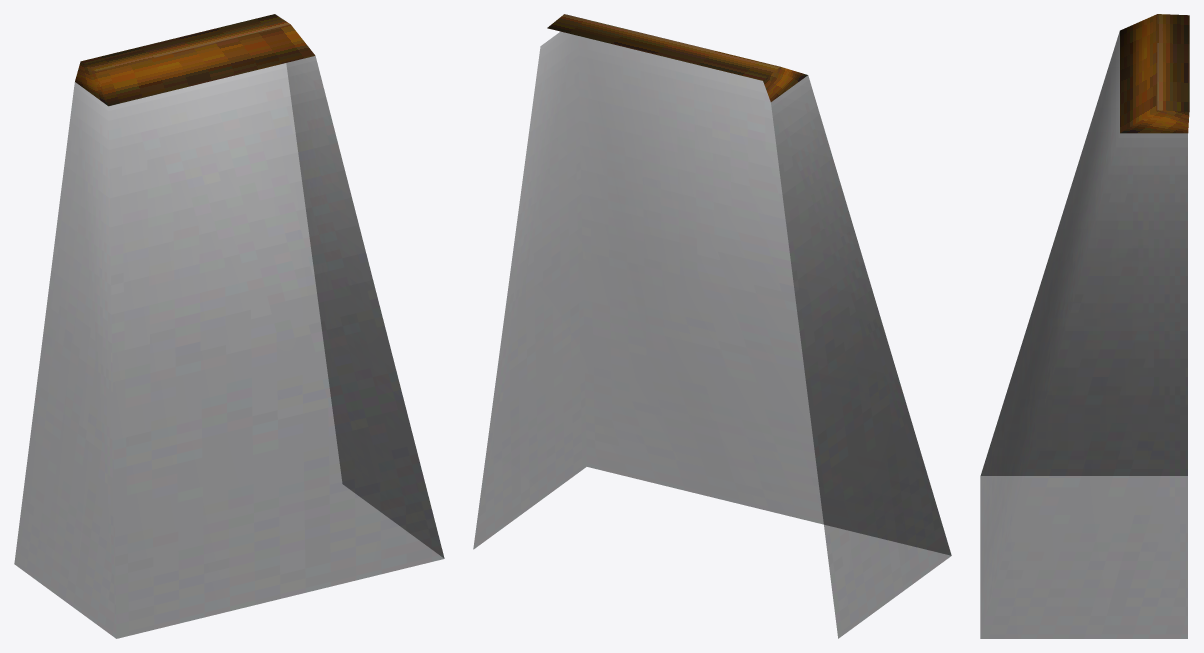
3 views of the same model, side by side, from view 1: azimuth 30°, elevation 25°; view 2: azimuth 150°, elevation 25°; view 3: azimuth 270°, elevation 25° (orthographic). The views are drawn at different scales.
Parts seen in each view (by area): view 1: Hk_obj_068; view 2: Hk_obj_068; view 3: Hk_obj_068.
Boxes of the visible parts, <box> form: Hk_obj_068: <box>14,14,444,638</box>; Hk_obj_068: <box>473,14,951,638</box>; Hk_obj_068: <box>980,14,1189,638</box>.
Bounding box in the file's own units: 1.1 × 1.56 × 0.5977.
2 materials, 2 textured.
